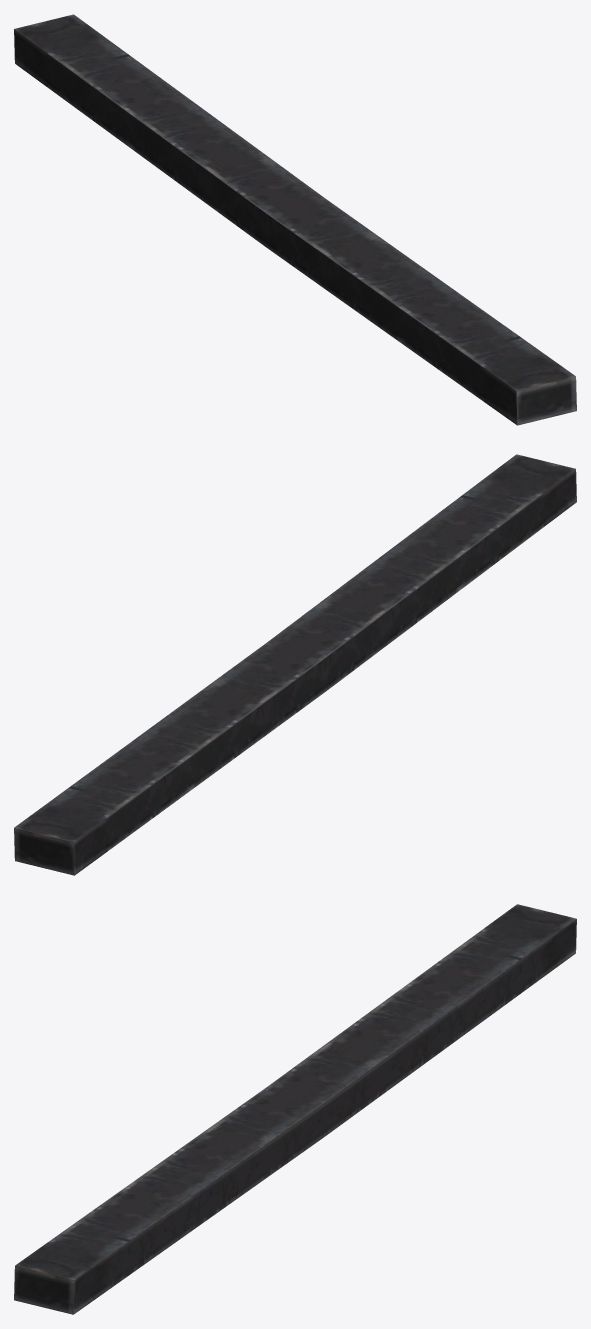
File: 10504_IronRail06.FBX
The picture shows the model from 3 angles, top to bottom: view 1: azimuth 30°, elevation 25°; view 2: azimuth 150°, elevation 25°; view 3: azimuth 330°, elevation 25°; orthographic projection.
Parts seen in each view (by area): view 1: 10504_IronRail06; view 2: 10504_IronRail06; view 3: 10504_IronRail06.
Boxes of the visible parts, x1,y1,x2,y2 form: 10504_IronRail06: [14, 14, 576, 425]; 10504_IronRail06: [14, 454, 576, 875]; 10504_IronRail06: [14, 904, 576, 1314].
Size of the model in its own units: 36.97 by 23.6 by 538.
